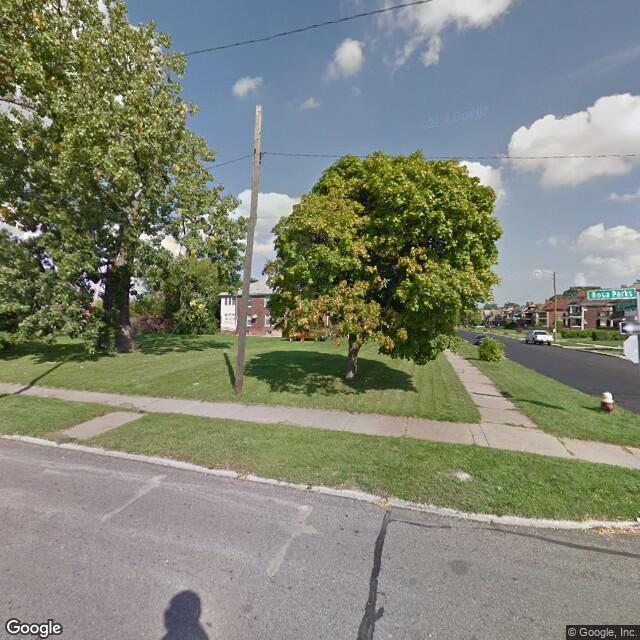litter: (191, 378, 201, 388), (79, 365, 85, 370)
